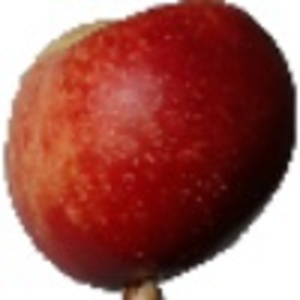nectarina: (2, 1, 298, 300)
